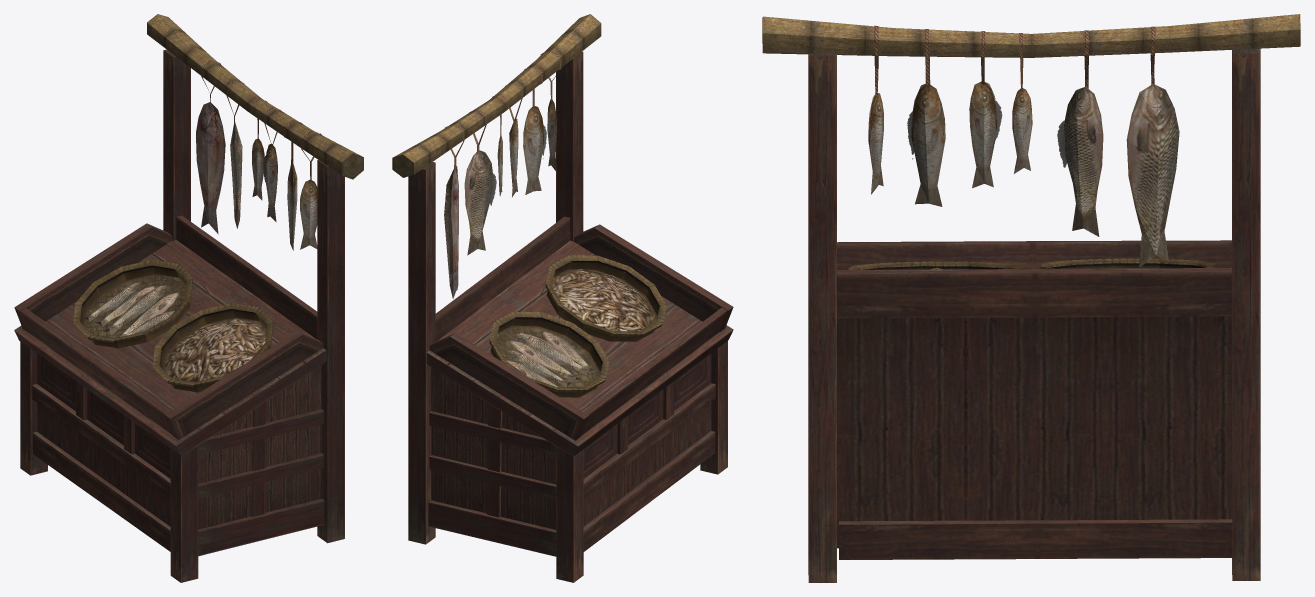
The picture shows the model from 3 angles, left to right: view 1: azimuth 30°, elevation 25°; view 2: azimuth 150°, elevation 25°; view 3: azimuth 270°, elevation 25°; orthographic projection. The views are drawn at different scales.
Visible parts, largest first — view 1: qingmo_obj_256 [10484651]; view 2: qingmo_obj_256 [10484651]; view 3: qingmo_obj_256 [10484651].
Boxes of the visible parts, x1,y1,x2,y2 form: qingmo_obj_256 [10484651]: (14, 14, 363, 582); qingmo_obj_256 [10484651]: (392, 14, 733, 582); qingmo_obj_256 [10484651]: (762, 14, 1300, 582).
Size of the model in its own units: 6.17 by 11.58 by 13.47.
Materials: 2 (2 with a texture image).
